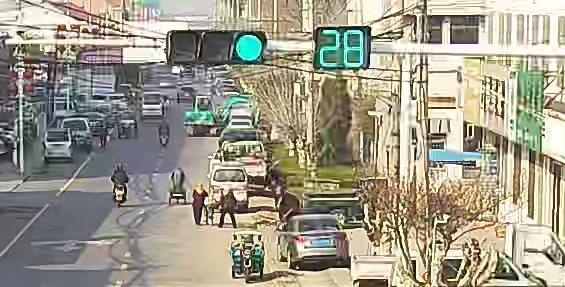green: (233, 33, 264, 62)
greentime: (319, 28, 368, 67)
